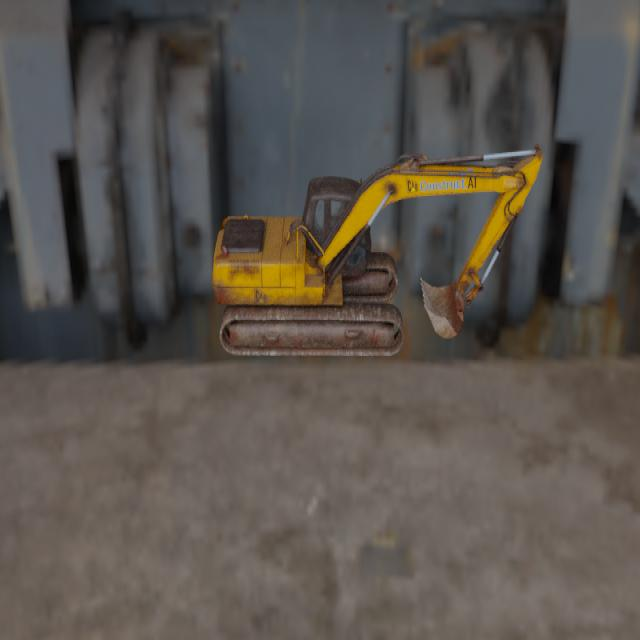excavator: (211, 143, 543, 356)
